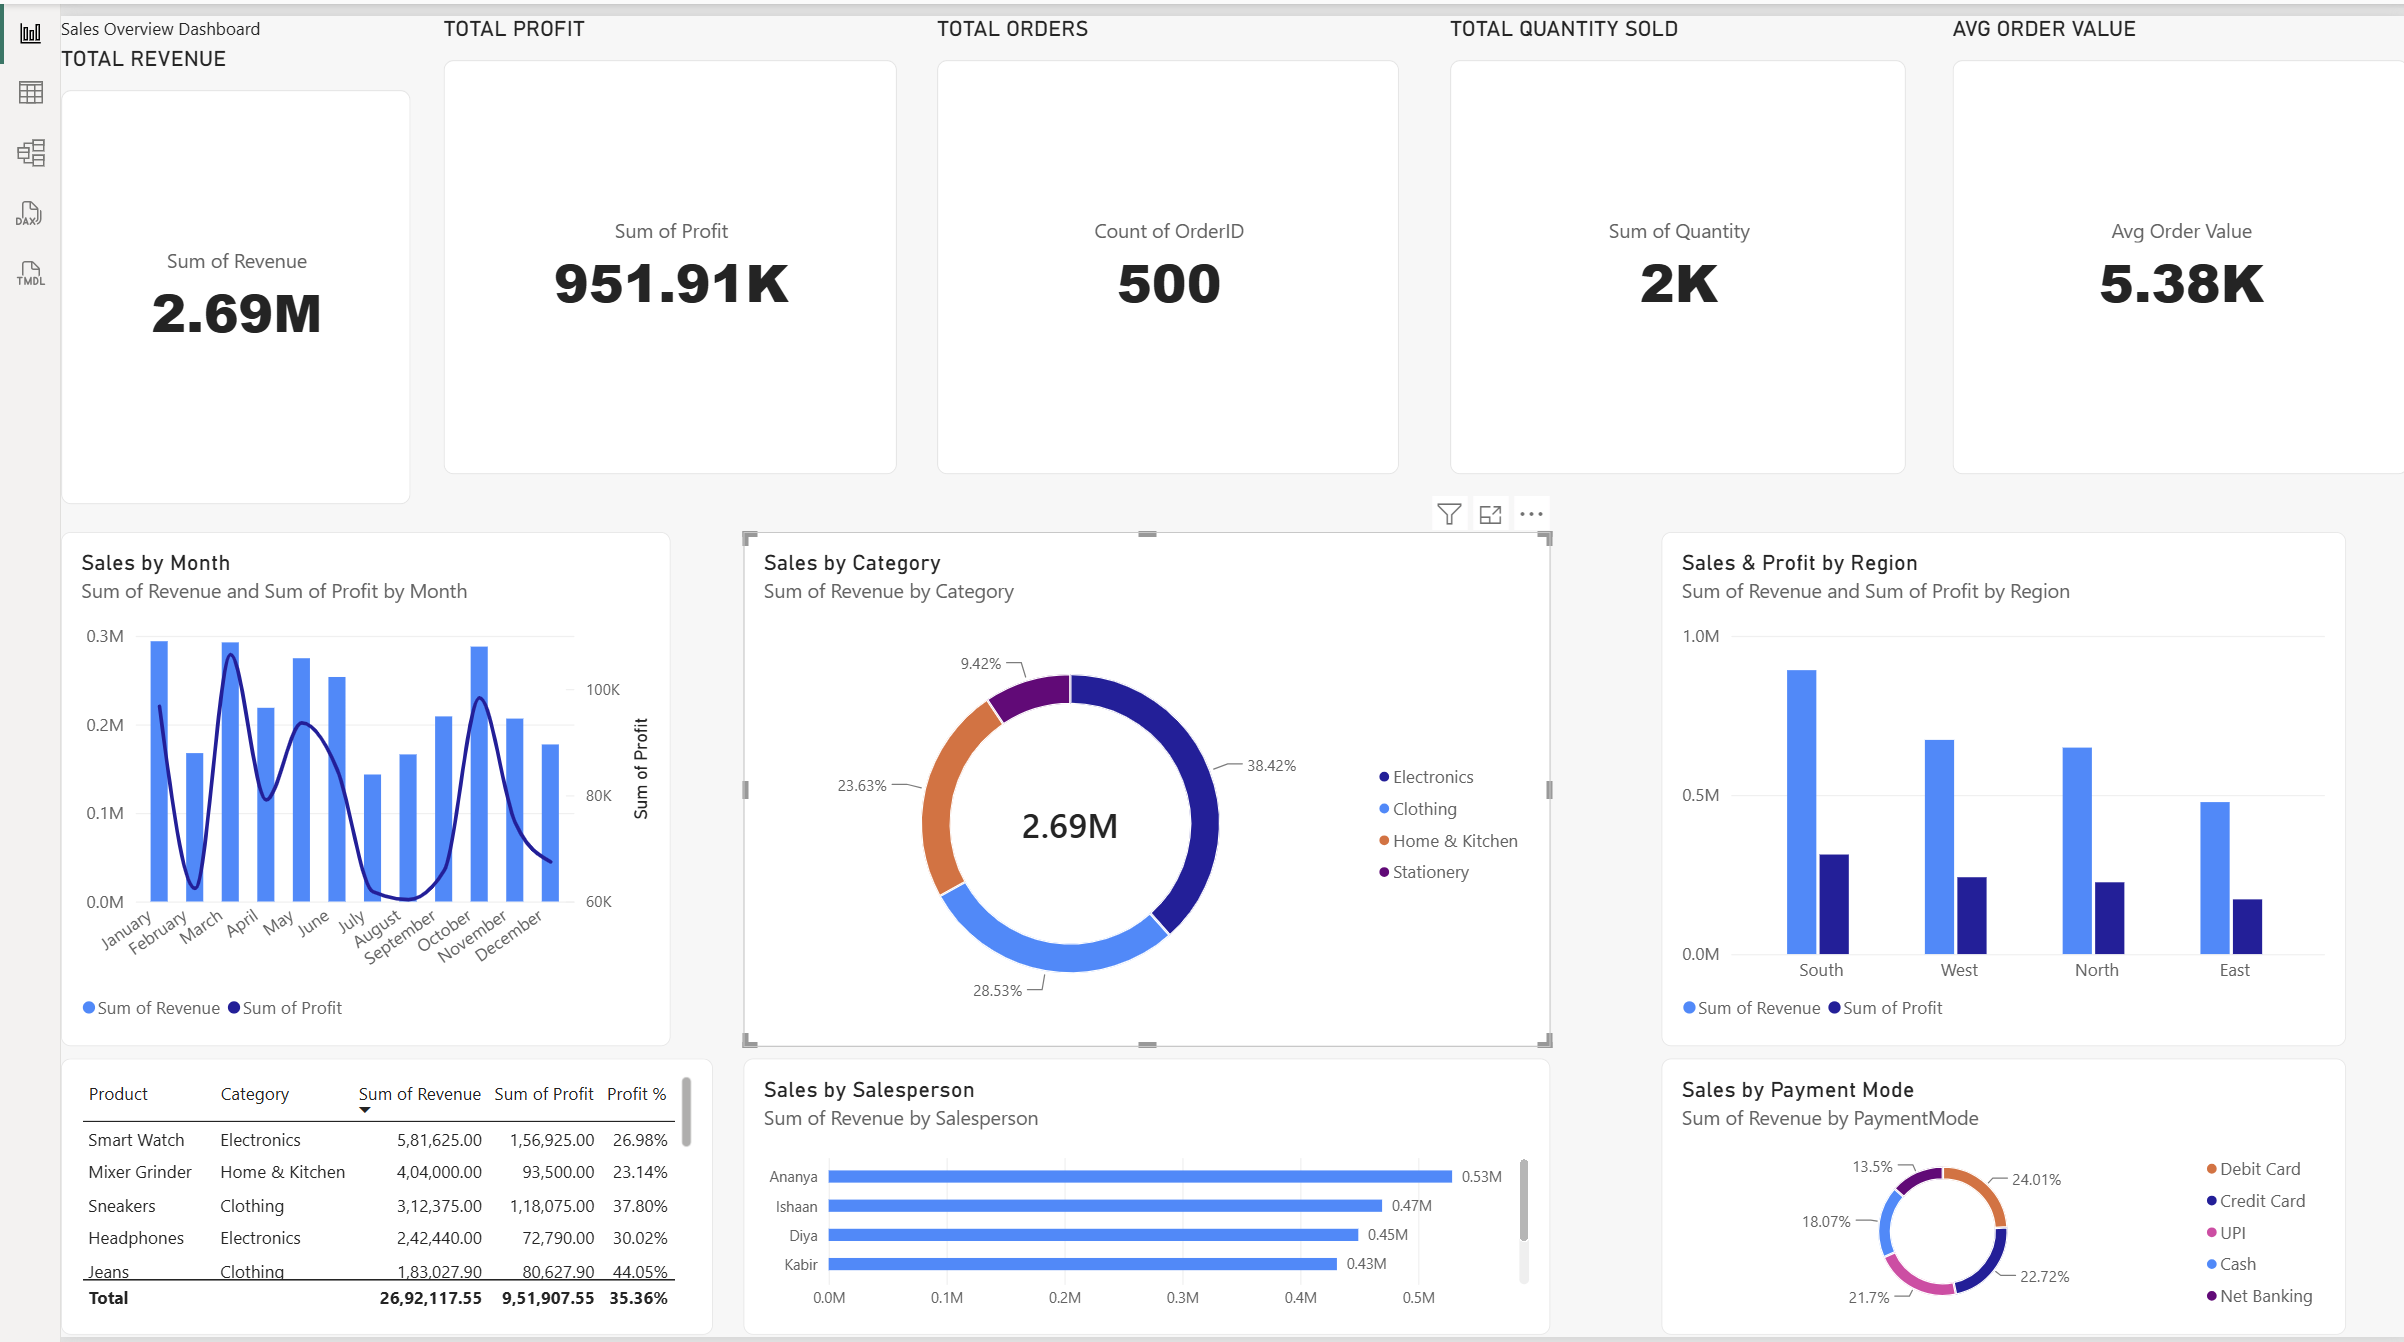

Layout of this report page (visuals, bound fields, positions):
{"tool":"powerbi","page":{"name":"Sales_Revenue_Dashboard.pbix","canvas":[1920,1080],"ordinal":0},"visuals":[{"type":"cardVisual","title":"TOTAL PROFIT","fields":{"Data":["Sum(SalesData.Profit)"]},"box":[312.9,0,372,375.4],"z":0},{"type":"cardVisual","title":"TOTAL REVENUE","fields":{"Data":["Sum(SalesData.Revenue)"]},"box":[0,24.3,286.8,375.4],"z":1},{"type":"cardVisual","title":"TOTAL ORDERS","fields":{"Data":["Count(SalesData.OrderID)"]},"box":[716.1,0,378.9,375.4],"z":2},{"type":"cardVisual","title":"TOTAL QUANTITY SOLD","fields":{"Data":["Sum(SalesData.Quantity)"]},"box":[1136.7,0,373.7,375.4],"z":3},{"type":"cardVisual","title":"AVG ORDER VALUE","fields":{"Data":["SalesData.Avg Order Value"]},"box":[1546.9,0,373.7,375.4],"z":4},{"type":"lineStackedColumnComboChart","title":"Sales by Month","fields":{"Category":["SalesData.OrderDate.Variation.Date Hierarchy.Month"],"Y":["Sum(SalesData.Revenue)"],"Y2":["Sum(SalesData.Profit)"]},"box":[0,422.4,498.8,420.6],"z":5},{"type":"donutChart","title":"Sales by Category","fields":{"Category":["SalesData.Category"],"Y":["Sum(SalesData.Revenue)"]},"box":[557.9,422.4,660.5,420.6],"z":6},{"type":"clusteredColumnChart","title":"Sales & Profit by Region","fields":{"Category":["SalesData.Region"],"Y":["Sum(SalesData.Revenue)","Sum(SalesData.Profit)"]},"box":[1308.8,422.4,559.7,420.6],"z":7},{"type":"tableEx","fields":{"Values":["SalesData.Product","SalesData.Category","Sum(SalesData.Revenue)","Sum(SalesData.Profit)","SalesData.Profit %"]},"box":[0,853.4,533.6,226],"z":8},{"type":"clusteredBarChart","title":"Sales by Salesperson","fields":{"Category":["SalesData.Salesperson"],"Y":["Sum(SalesData.Revenue)"]},"box":[558,853,660,226],"z":9},{"type":"donutChart","title":"Sales by Payment Mode","fields":{"Category":["SalesData.PaymentMode"],"Y":["Sum(SalesData.Revenue)"]},"box":[1309,853,560,226],"z":10},{"type":"textbox","box":[0,0,286.8,52.1],"z":11}]}

Visuals, with their boxes on the page's 1920x1080 design canvas (x1, y1, x2, y2). These are canvas units, not pixel positions in the 2404x1342 screenshot, which may show the page scaled, cropped or inside an application window:
"TOTAL PROFIT" cardVisual: <bbox>313, 0, 685, 375</bbox>
"TOTAL REVENUE" cardVisual: <bbox>0, 24, 287, 400</bbox>
"TOTAL ORDERS" cardVisual: <bbox>716, 0, 1095, 375</bbox>
"TOTAL QUANTITY SOLD" cardVisual: <bbox>1137, 0, 1510, 375</bbox>
"AVG ORDER VALUE" cardVisual: <bbox>1547, 0, 1921, 375</bbox>
"Sales by Month" lineStackedColumnComboChart: <bbox>0, 422, 499, 843</bbox>
"Sales by Category" donutChart: <bbox>558, 422, 1218, 843</bbox>
"Sales & Profit by Region" clusteredColumnChart: <bbox>1309, 422, 1868, 843</bbox>
tableEx - SalesData.Product x SalesData.Category: <bbox>0, 853, 534, 1079</bbox>
"Sales by Salesperson" clusteredBarChart: <bbox>558, 853, 1218, 1079</bbox>
"Sales by Payment Mode" donutChart: <bbox>1309, 853, 1869, 1079</bbox>
textbox: <bbox>0, 0, 287, 52</bbox>
